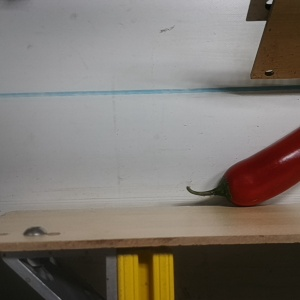Cut Point: (214, 168, 243, 205)
